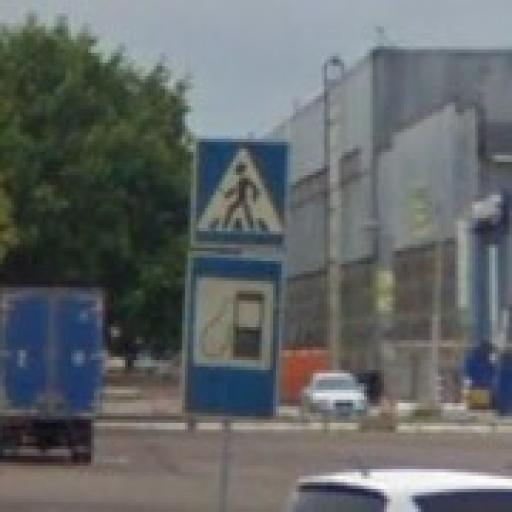traffic_sign: (180, 249, 288, 424), (192, 136, 294, 252)
